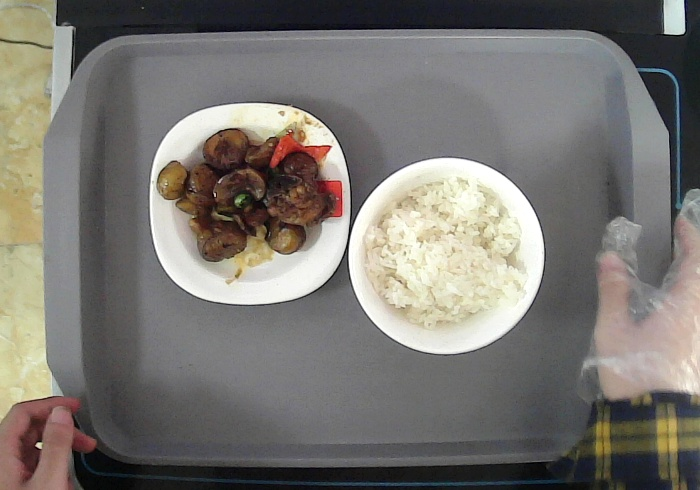SHKJ-Bai_Se_Si_Fang_Cai_Die: (148, 100, 352, 307)
SHKJ-Fan_Wan: (345, 157, 546, 357)
